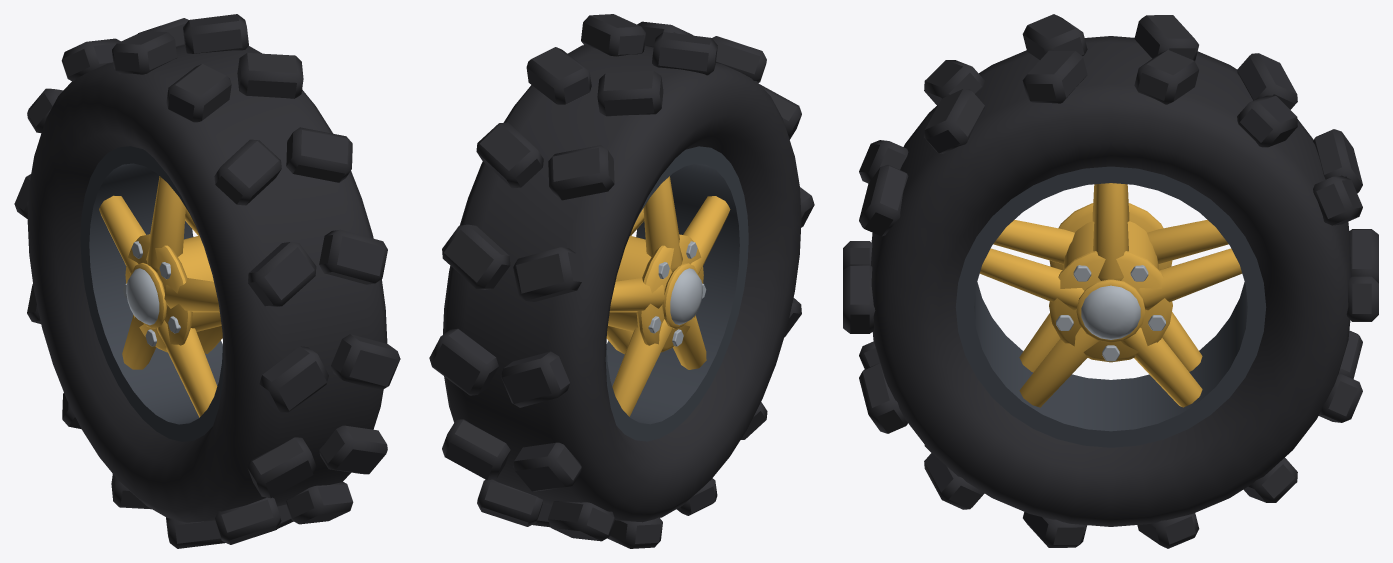
The model's file is part_wheel.glb.
3 renders of one model, left to right at view 1: azimuth 30°, elevation 25°; view 2: azimuth 150°, elevation 25°; view 3: azimuth 270°, elevation 25°, orthographic. The views are drawn at different scales.
Parts seen in each view (by area): view 1: Wheel; view 2: Wheel; view 3: Wheel.
Boxes of the visible parts, box(x1,y1,x2,y2) form: Wheel: box(14, 14, 400, 548); Wheel: box(429, 14, 814, 548); Wheel: box(843, 14, 1378, 548).
Size of the model in its own units: 0.3 by 0.8958 by 0.9.
